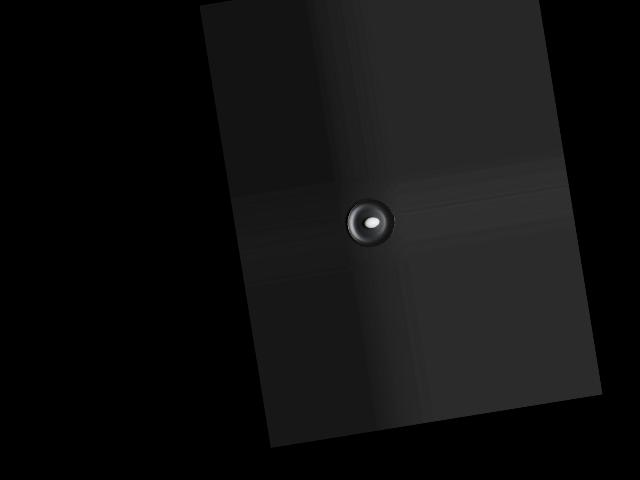egg: (363, 216, 379, 229)
